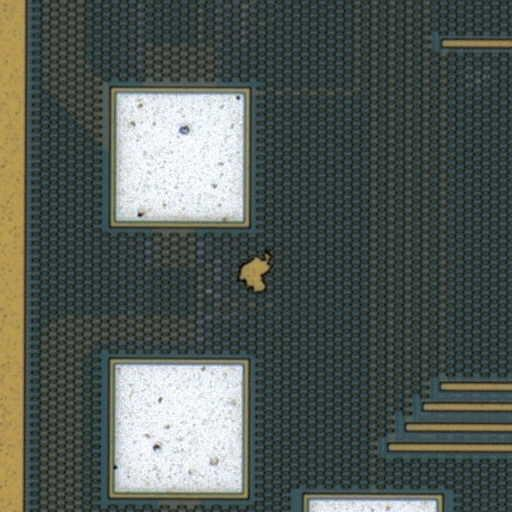BLOCK ETCH: (231, 247, 283, 299)
